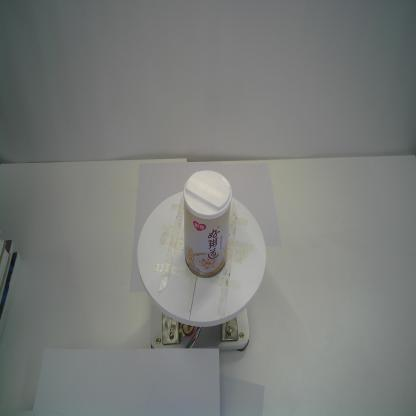Canned Food: (183, 169, 232, 278)
